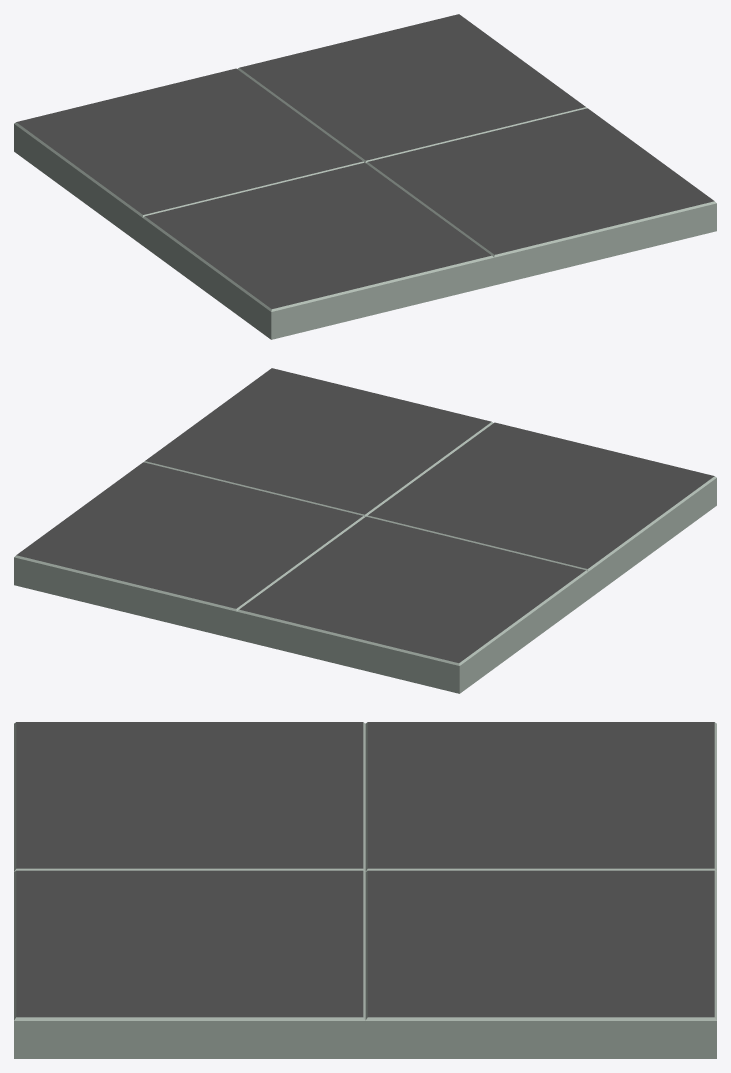
File: C_Floor_Small.fbx
3 renders of one model, top to bottom at view 1: azimuth 30°, elevation 25°; view 2: azimuth 150°, elevation 25°; view 3: azimuth 270°, elevation 25°, orthographic. The views are drawn at different scales.
Parts seen in each view (by area): view 1: C_Floor_Small; view 2: C_Floor_Small; view 3: C_Floor_Small.
Boxes of the visible parts, x1,y1,x2,y2 form: C_Floor_Small: (14, 14, 716, 339); C_Floor_Small: (14, 368, 716, 693); C_Floor_Small: (14, 722, 716, 1058).
Size of the model in its own units: 1000 by 1000 by 63.72.
